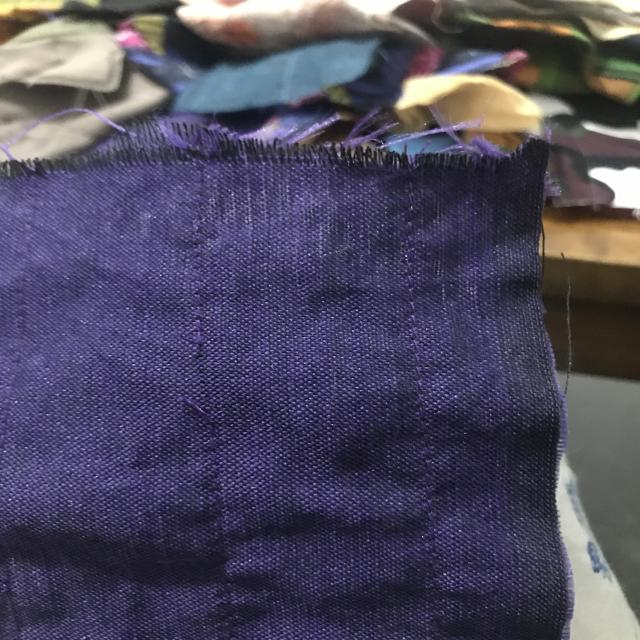broken: (178, 324, 260, 434)
